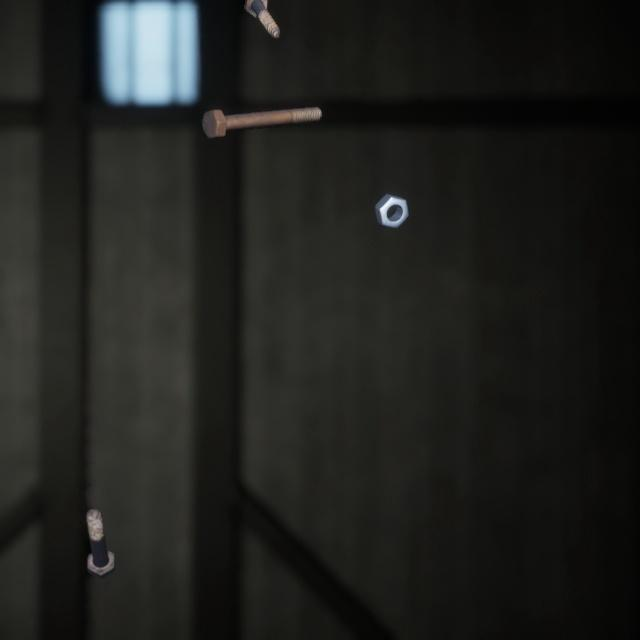bolt: (198, 90, 326, 130), (81, 481, 119, 561), (240, 0, 284, 33)
nut: (370, 175, 413, 218)
